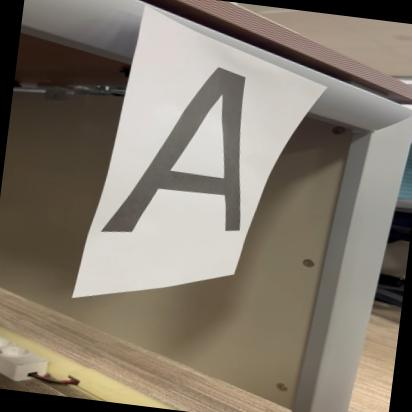seat: (106, 42, 275, 251)
